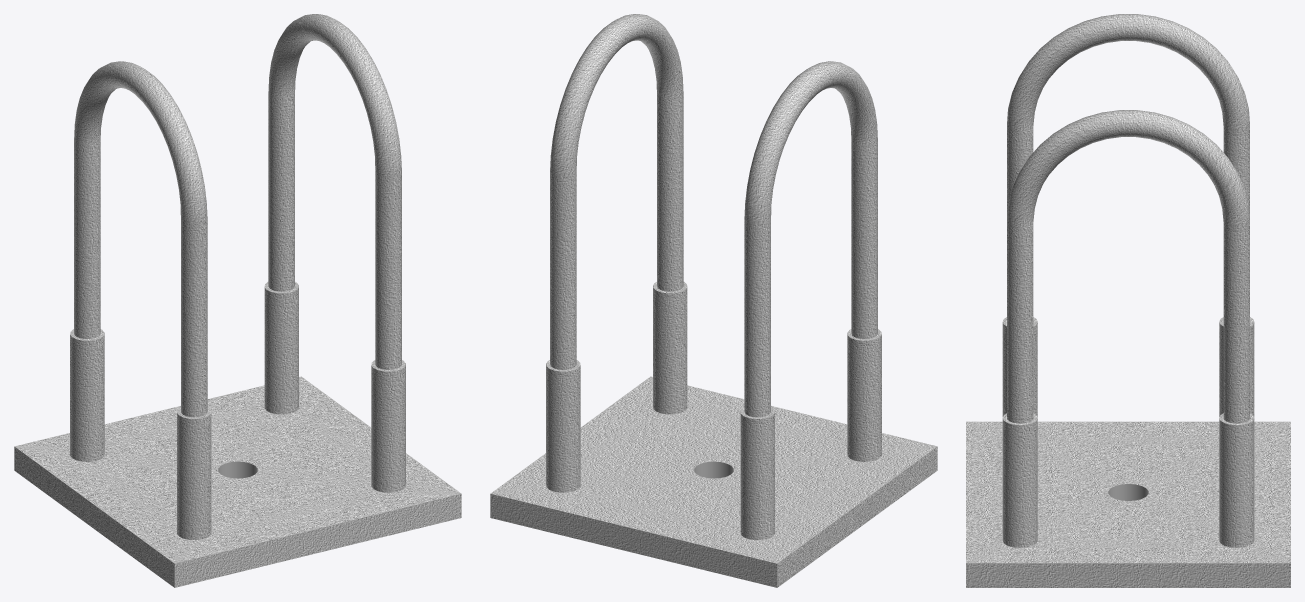
The model's file is Clamp-Center.gltf.
3 views of the same model, side by side, from view 1: azimuth 30°, elevation 25°; view 2: azimuth 150°, elevation 25°; view 3: azimuth 270°, elevation 25° (orthographic).
Parts seen in each view (by area): view 1: Solid2; view 2: Solid2; view 3: Solid2.
Boxes of the visible parts, left/top/right/bottom form: Solid2: left=14, top=14, right=461, bottom=587; Solid2: left=490, top=14, right=937, bottom=587; Solid2: left=966, top=14, right=1290, bottom=587.
Size of the model in its own units: 0.124 by 0.1849 by 0.12.
3 materials, 2 textured.
